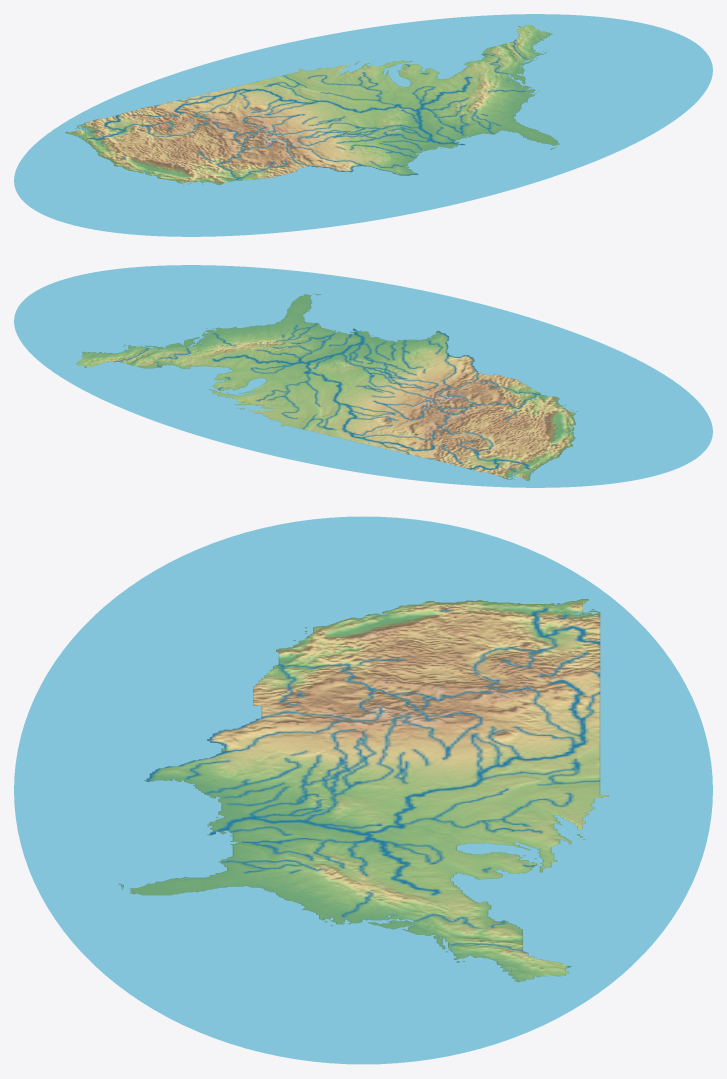
The model's file is USA-terrain.glb.
The picture shows the model from 3 angles, top to bottom: view 1: azimuth 30°, elevation 25°; view 2: azimuth 150°, elevation 25°; view 3: azimuth 270°, elevation 25°; orthographic projection. The views are drawn at different scales.
Parts seen in each view (by area): view 1: Relevo com hidrografia; view 2: Relevo com hidrografia; view 3: Relevo com hidrografia.
Boxes of the visible parts, x1,y1,x2,y2 form: Relevo com hidrografia: (14, 14, 712, 236); Relevo com hidrografia: (14, 265, 712, 487); Relevo com hidrografia: (14, 516, 712, 1064).
Size of the model in its own units: 2.3 by 0.0142 by 1.24.
Materials: 2 (1 with a texture image).
